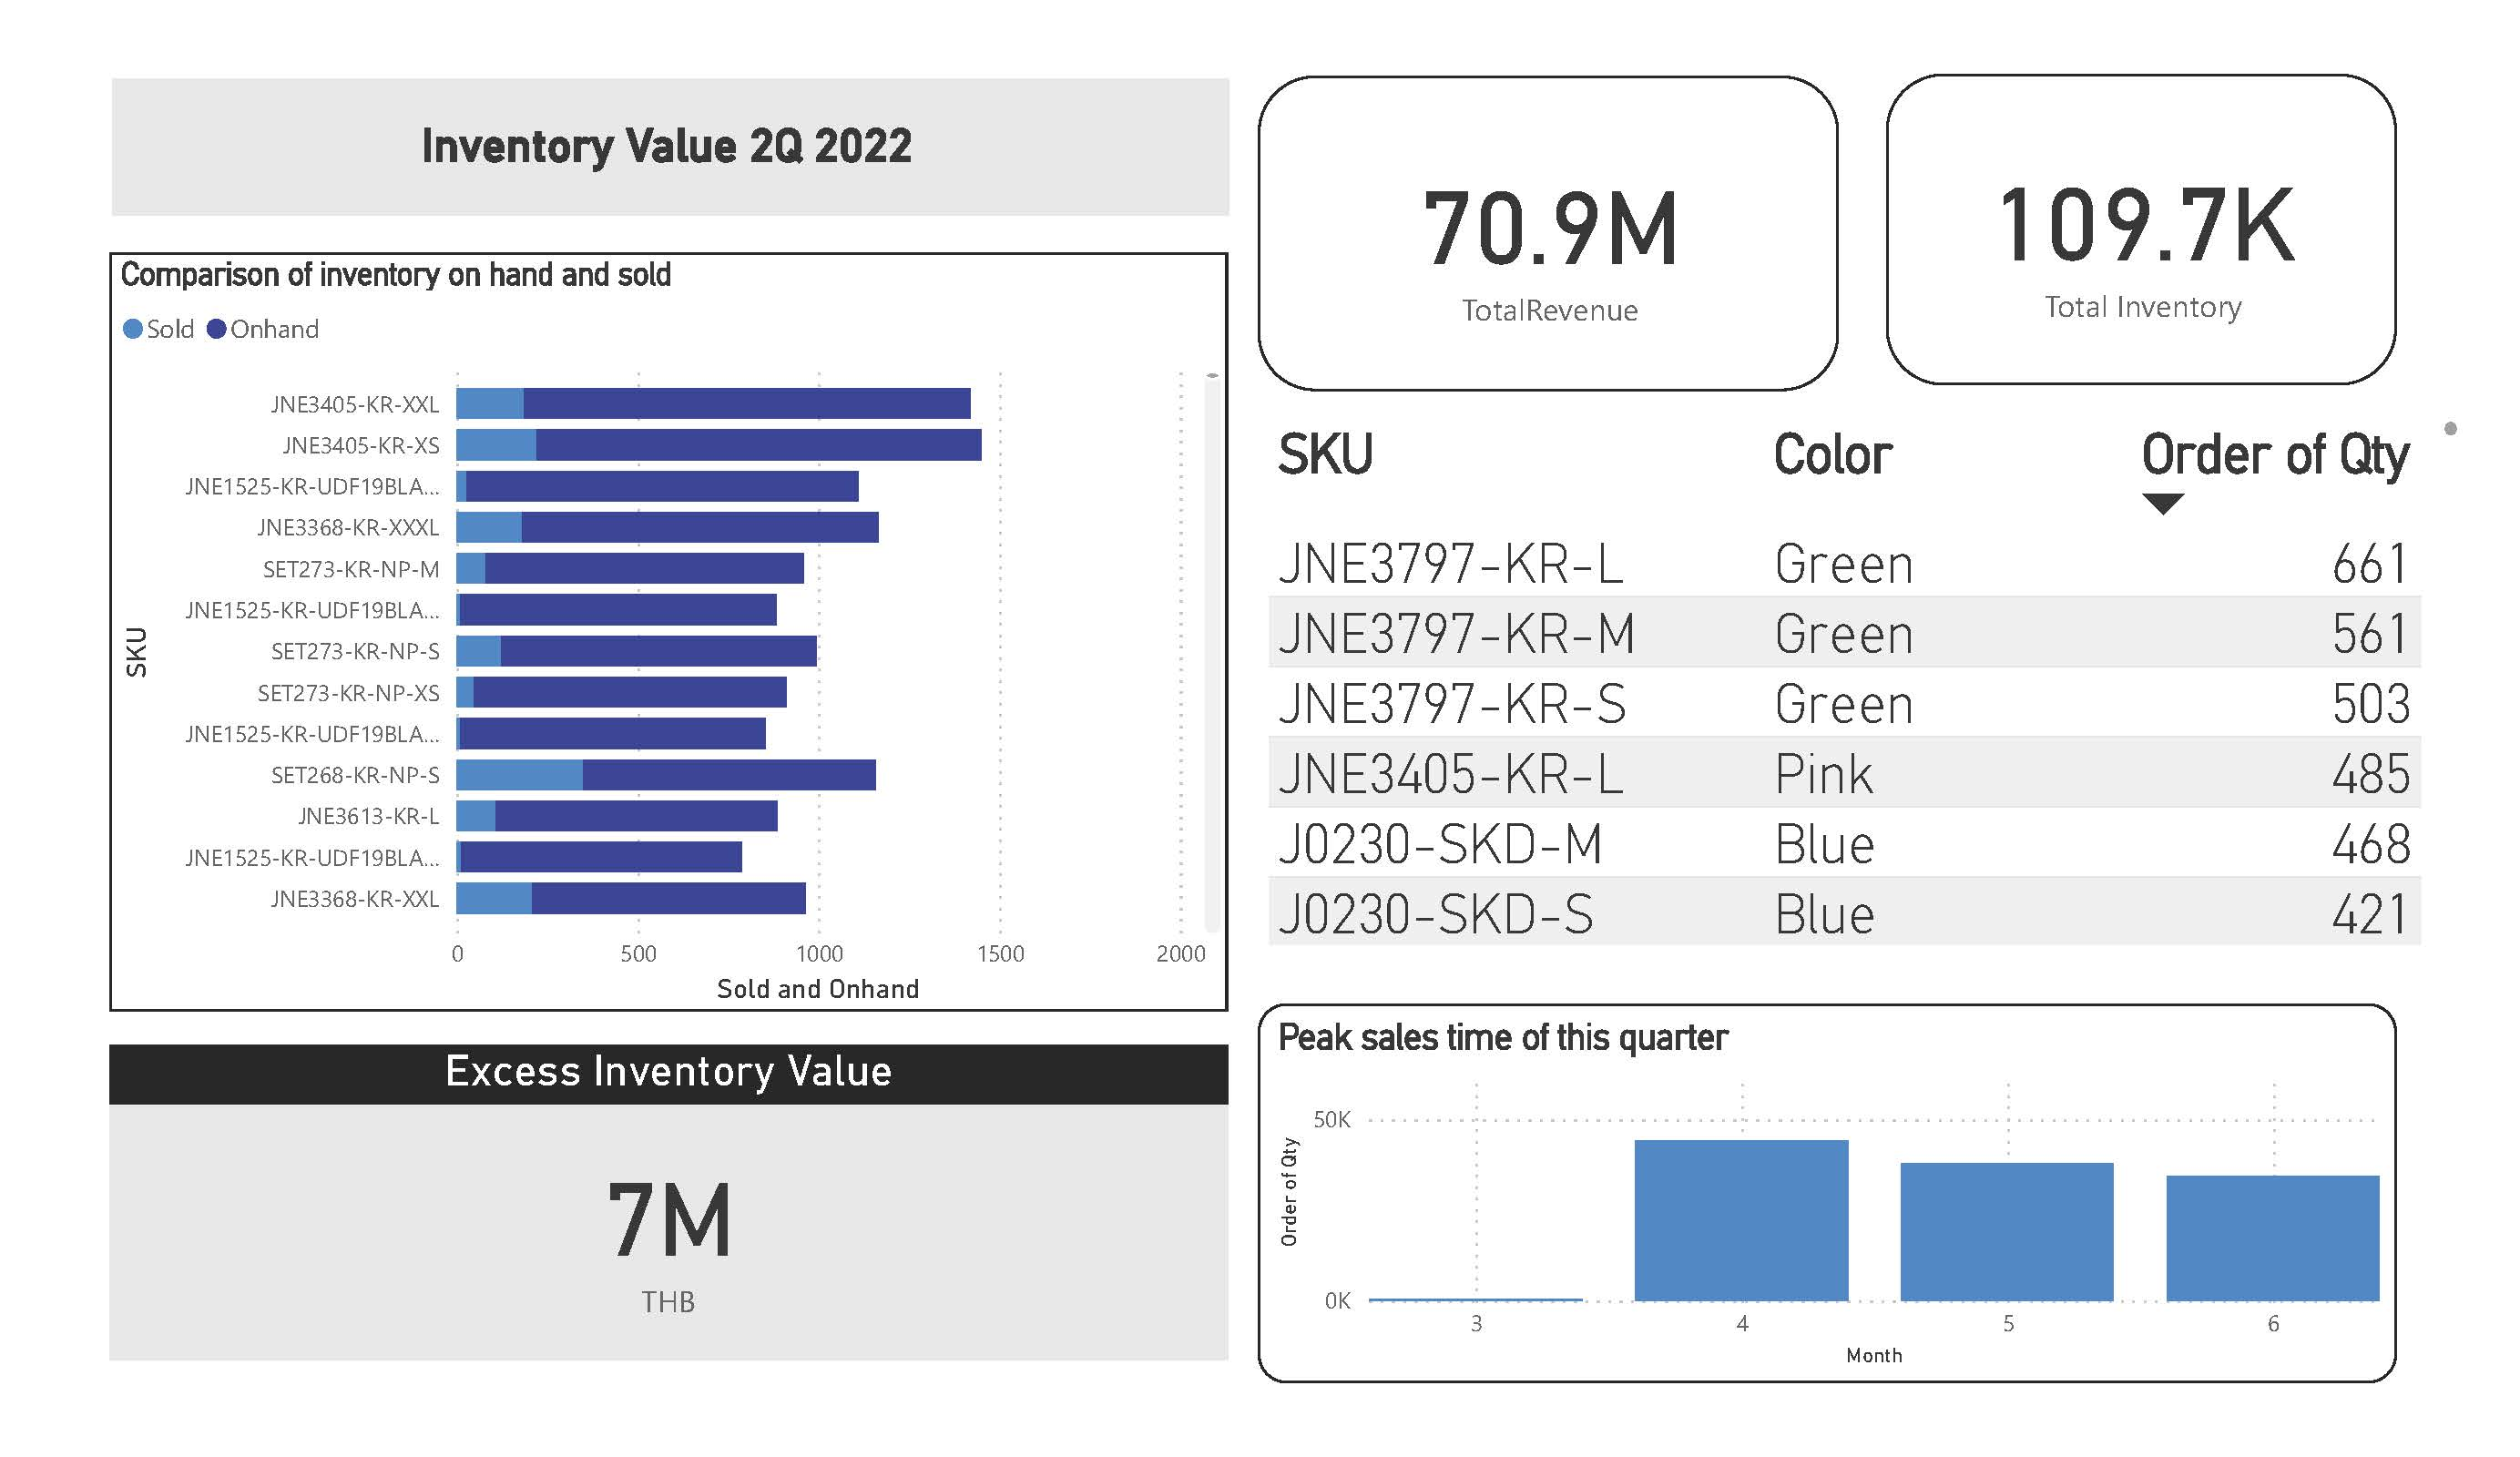

What the dashboard file says about the page in this screenshot:
{"tool":"powerbi","page":{"name":"Page 1","canvas":[1280,720],"ordinal":0},"visuals":[{"type":"textbox","box":[34.1,15.9,590.9,75],"z":0},{"type":"barChart","title":" Comparison of inventory on hand and sold","fields":{"Category":["best_revenue.SKU"],"Y":["Sum(best_revenue.sum_Qty_)","Sum(best_revenue.Stock)"]},"box":[34.1,109.1,588.6,400],"z":1000},{"type":"card","title":"Excess Inventory Value","fields":{"Values":["Sum(Inventory_value (2).Inventory_value)"]},"box":[34.1,527.3,588.6,165.9],"z":2000},{"type":"card","title":"To","fields":{"Values":["Sum(best_revenue.TotalRevenue)"]},"box":[638.6,15.9,306.8,165.9],"z":3000},{"type":"card","title":"To","fields":{"Values":["Sum(best_revenue.sum_Qty_)"]},"box":[970.3,15.5,268.4,163.9],"z":4000},{"type":"tableEx","fields":{"Values":["best_revenue.SKU","best_revenue.Color","Sum(best_revenue.sum_Qty_)"]},"box":[638.7,192.3,638.7,286.5],"z":5000},{"type":"clusteredColumnChart","title":"Peak sales time of this quarter","fields":{"Category":["monthly_sales.order_month"],"Y":["Sum(monthly_sales.sum_Qty_)"]},"box":[638.6,504.5,600,200],"z":6000}]}

Visuals, with their boxes in screenshot pixels (x1, y1, x2, y2):
textbox: <region>117, 82, 1223, 223</region>
" Comparison of inventory on hand and sold" barChart: <region>117, 257, 1219, 1005</region>
"Excess Inventory Value" card: <region>117, 1040, 1219, 1350</region>
"To" card: <region>1249, 82, 1823, 392</region>
"To" card: <region>1870, 82, 2372, 389</region>
tableEx - best_revenue.SKU x best_revenue.Color: <region>1249, 413, 2444, 949</region>
"Peak sales time of this quarter" clusteredColumnChart: <region>1249, 997, 2372, 1371</region>
